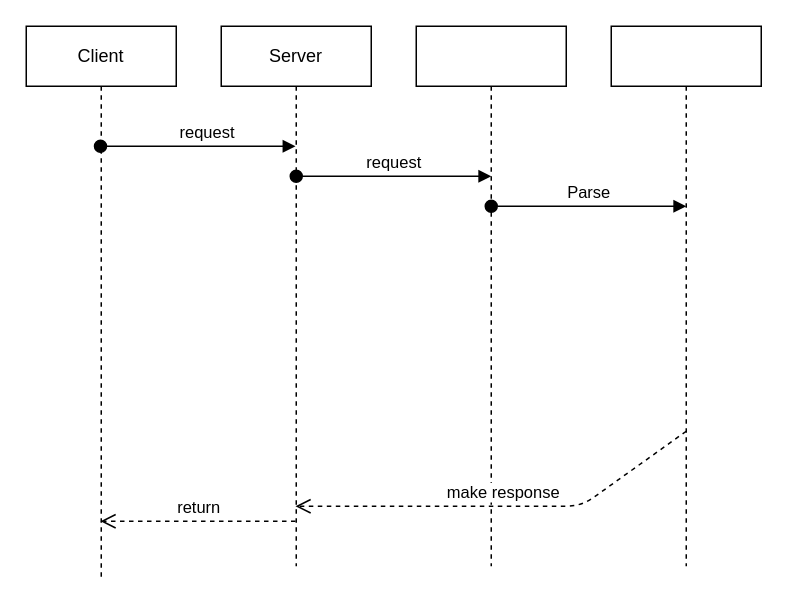
Image size: 788x608. Some labels were removed from this diagram. Here are the shapes that lost their labels. From the top down, the box of each, then its label:
(415, 25, 566, 566): HTTPRequest Parse
(610, 25, 761, 566): HTTTPResponse
